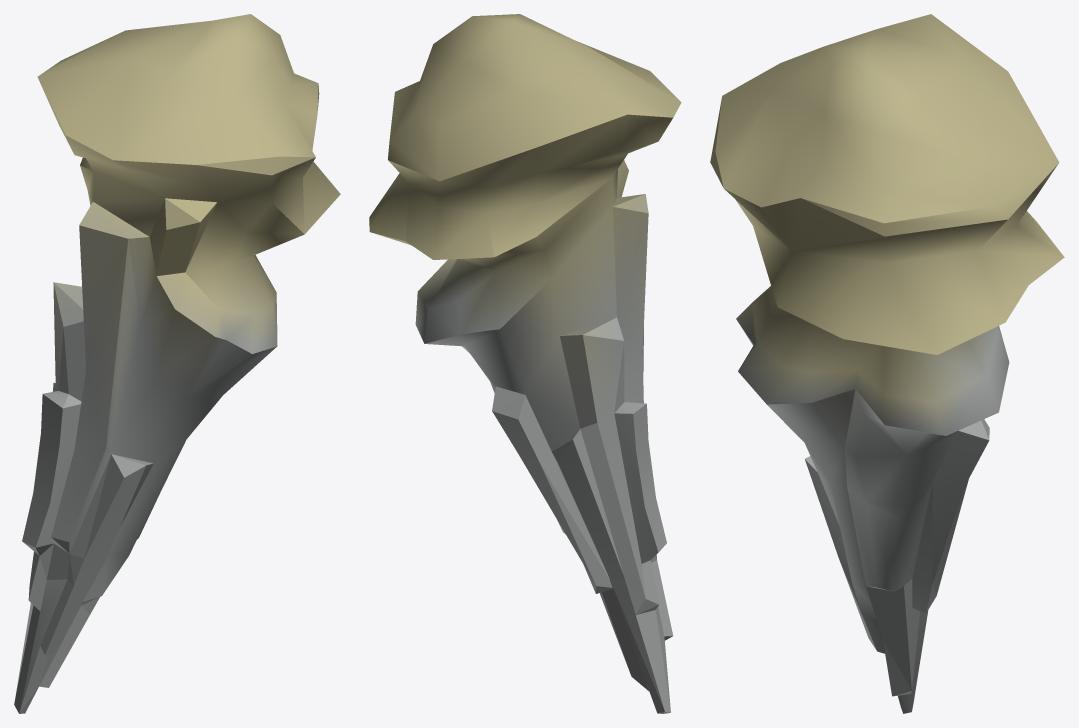
3 renders of one model, left to right at view 1: azimuth 30°, elevation 25°; view 2: azimuth 150°, elevation 25°; view 3: azimuth 270°, elevation 25°, orthographic. The views are drawn at different scales.
Visible parts, largest first — view 1: G:\FFXIV-MapTools\exports\l1f1\bg\ffxiv\lak_l1\fld\l1f1\bgpa; view 2: G:\FFXIV-MapTools\exports\l1f1\bg\ffxiv\lak_l1\fld\l1f1\bgpa; view 3: G:\FFXIV-MapTools\exports\l1f1\bg\ffxiv\lak_l1\fld\l1f1\bgpa.
Boxes of the visible parts, x1=… form: G:\FFXIV-MapTools\exports\l1f1\bg\ffxiv\lak_l1\fld\l1f1\bgpa: x1=14, y1=14, x2=340, y2=713; G:\FFXIV-MapTools\exports\l1f1\bg\ffxiv\lak_l1\fld\l1f1\bgpa: x1=369, y1=14, x2=681, y2=713; G:\FFXIV-MapTools\exports\l1f1\bg\ffxiv\lak_l1\fld\l1f1\bgpa: x1=710, y1=14, x2=1064, y2=713.
Size of the model in its own units: 3.81 by 8.13 by 3.44.
